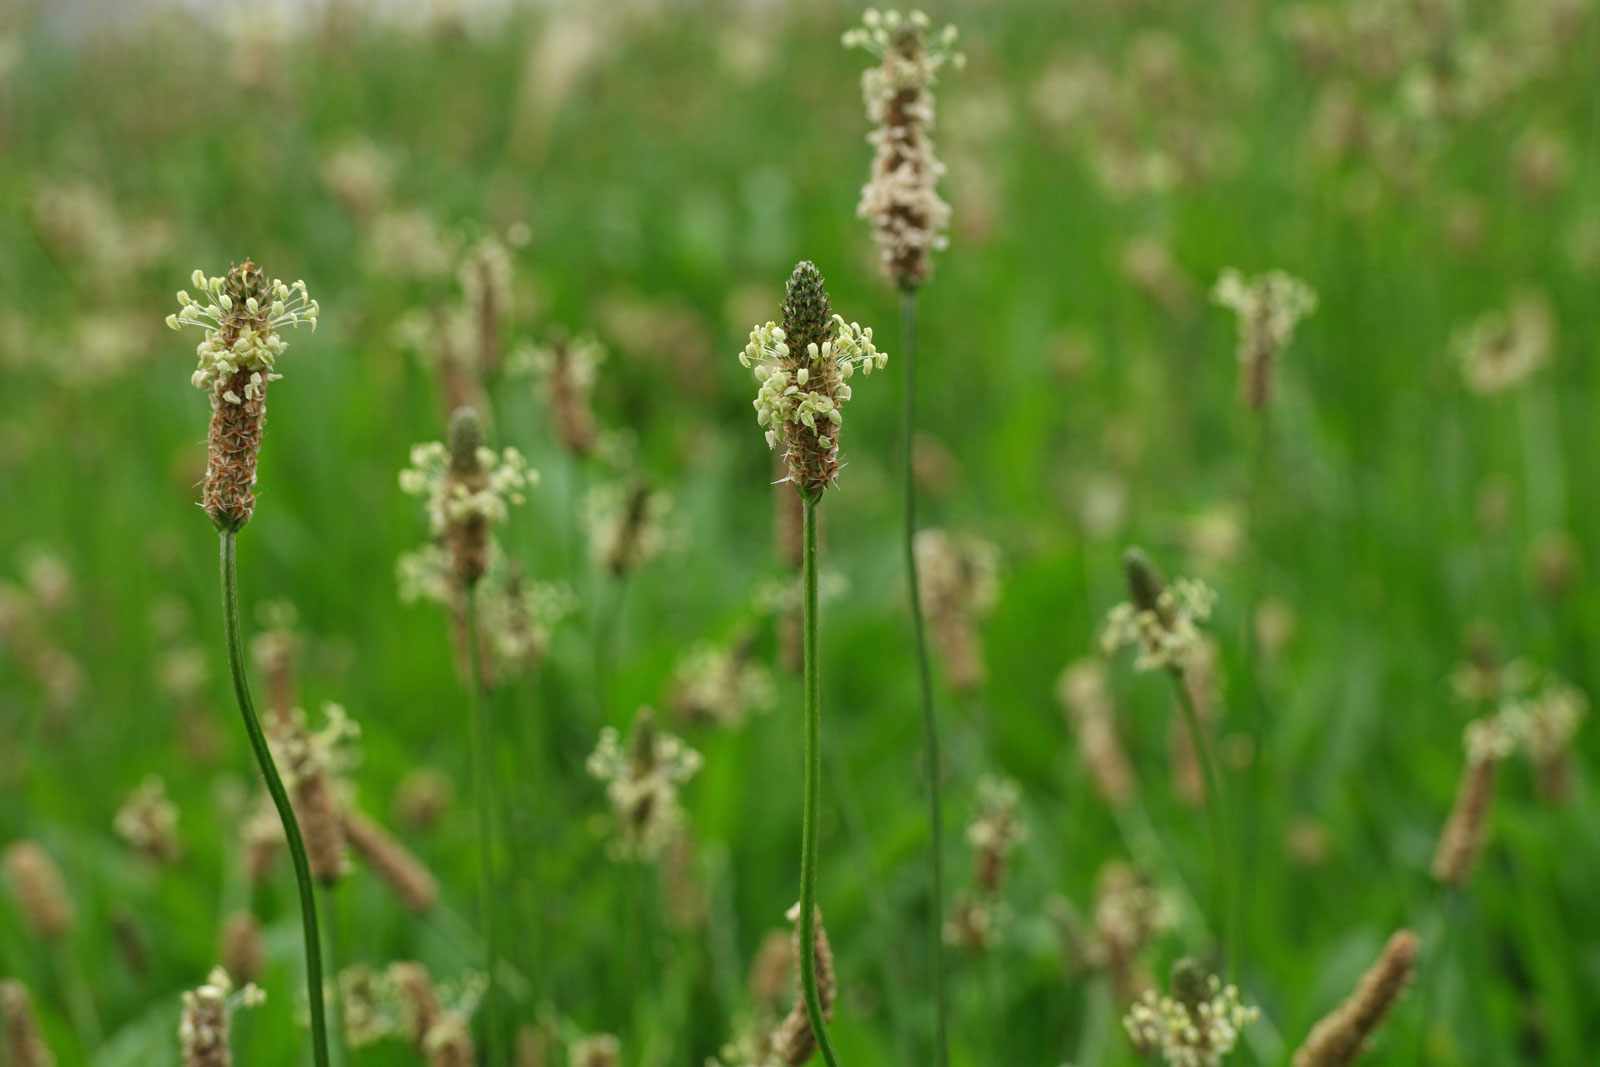buckhorn plantain: (819, 17, 990, 604), (735, 239, 883, 684), (175, 235, 308, 645)
